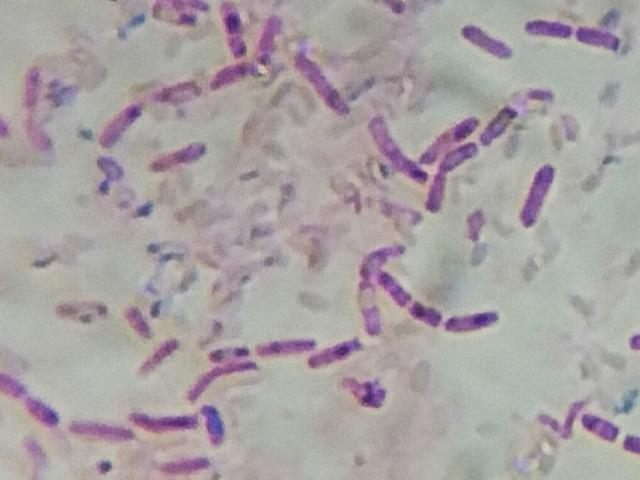E. coli: (369, 110, 429, 190), (295, 51, 351, 119), (95, 96, 150, 150), (189, 360, 259, 402), (425, 110, 479, 158), (445, 308, 513, 343), (302, 336, 376, 368), (460, 20, 515, 63), (525, 158, 557, 231), (67, 415, 137, 444), (577, 16, 622, 58), (478, 107, 525, 147), (134, 340, 185, 376), (255, 6, 280, 77), (354, 277, 383, 336), (132, 410, 202, 434), (580, 409, 624, 446), (153, 141, 209, 170), (155, 451, 211, 478), (380, 266, 413, 310), (26, 395, 64, 433), (214, 61, 258, 93), (220, 4, 248, 53), (158, 79, 204, 108), (528, 12, 571, 43), (126, 301, 157, 340), (258, 338, 316, 358), (410, 297, 441, 329), (207, 340, 253, 360), (0, 368, 22, 399), (624, 422, 640, 459)
